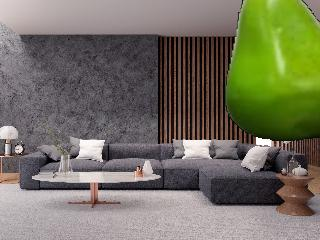pear: (225, 0, 320, 139)
